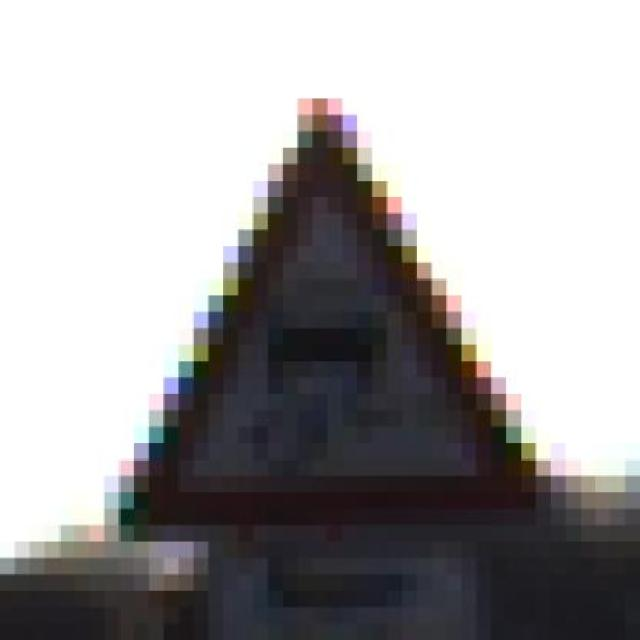Slippery Road Ahead: (104, 81, 550, 558)
